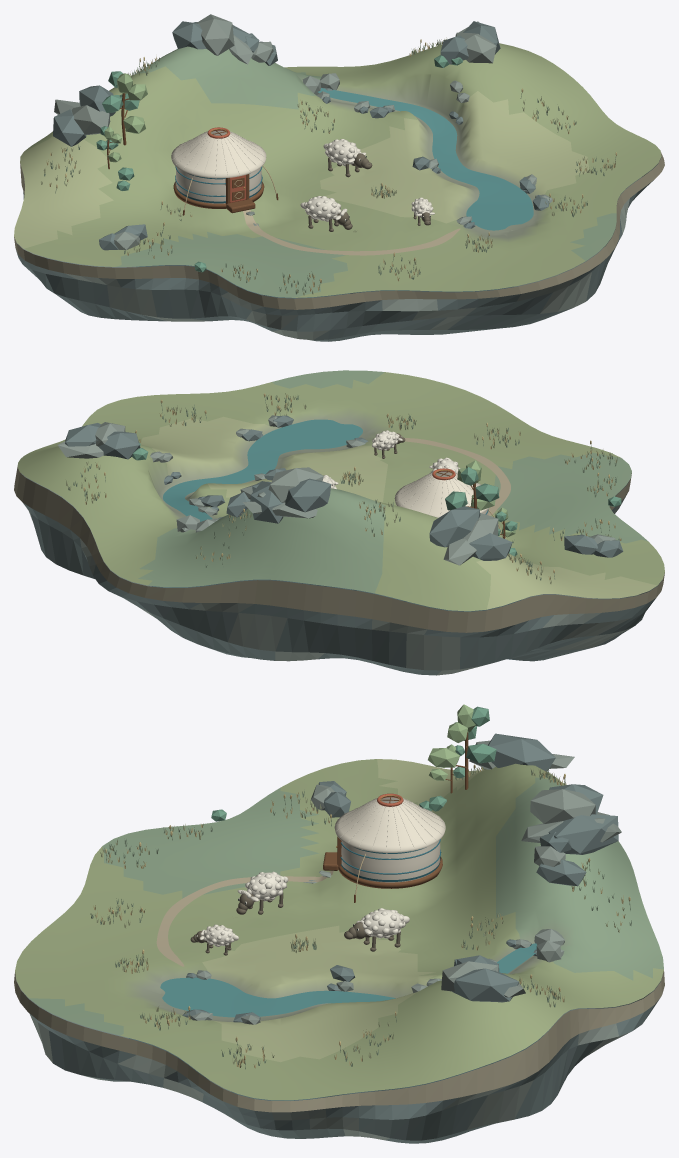
The model's file is steppe-v7.glb.
3 views of the same model, one above another, from view 1: azimuth 30°, elevation 25°; view 2: azimuth 150°, elevation 25°; view 3: azimuth 270°, elevation 25° (orthographic). The views are drawn at different scales.
Visible parts, largest first — view 1: Steppe_Steppe_meadow_terrain, Steppe_Steppe_turf_earth, Steppe_Steppe_weathered_rock, Steppe_water_surface, Steppe_Steppe_slate, ger_Ger_ivory_felt, Steppe_Steppe_larch_foliage, Steppe_Steppe_sage_grass, Steppe_Steppe_worn_path, Steppe_Steppe_seed_heads, Steppe_Steppe_larch_tips, Steppe_Steppe_sunlit_grass (+4 smaller); view 2: Steppe_Steppe_meadow_terrain, Steppe_Steppe_turf_earth, Steppe_Steppe_slate, Steppe_Steppe_weathered_rock, Steppe_water_surface, ger_Ger_ivory_felt, Steppe_Steppe_larch_foliage, Steppe_Steppe_seed_heads, Steppe_Steppe_sage_grass, Steppe_Steppe_sunlit_grass, Steppe_Steppe_worn_path, Steppe_Steppe_larch_tips; view 3: Steppe_Steppe_meadow_terrain, Steppe_Steppe_turf_earth, Steppe_Steppe_slate, ger_Ger_ivory_felt, Steppe_Steppe_weathered_rock, Steppe_water_surface, Steppe_Steppe_sage_grass, Steppe_Steppe_seed_heads, Steppe_Steppe_larch_foliage, Steppe_Steppe_worn_path, Steppe_Steppe_sunlit_grass, Steppe_Steppe_larch_tips (+5 smaller).
Part boxes in pixels (x1,y1,x2,y2): Steppe_Steppe_meadow_terrain: [14, 43, 661, 297]; Steppe_Steppe_turf_earth: [14, 152, 664, 341]; Steppe_Steppe_weathered_rock: [54, 14, 552, 249]; Steppe_water_surface: [318, 88, 533, 230]; Steppe_Steppe_slate: [53, 21, 549, 250]; ger_Ger_ivory_felt: [171, 130, 266, 203]; Steppe_Steppe_larch_foliage: [96, 55, 462, 272]; Steppe_Steppe_sage_grass: [44, 39, 616, 294]; Steppe_Steppe_worn_path: [243, 210, 460, 255]; Steppe_Steppe_seed_heads: [46, 39, 616, 291]; Steppe_Steppe_larch_tips: [104, 73, 147, 162]; Steppe_Steppe_sunlit_grass: [40, 37, 613, 295]; Steppe_Steppe_meadow_terrain: [17, 370, 664, 611]; Steppe_Steppe_turf_earth: [14, 467, 664, 675]; Steppe_Steppe_slate: [65, 415, 623, 560]; Steppe_Steppe_weathered_rock: [57, 415, 615, 565]; Steppe_water_surface: [163, 419, 362, 521]; ger_Ger_ivory_felt: [394, 471, 489, 517]; Steppe_Steppe_larch_foliage: [132, 442, 621, 556]; Steppe_Steppe_seed_heads: [83, 393, 621, 579]; Steppe_Steppe_sage_grass: [68, 395, 619, 580]; Steppe_Steppe_sunlit_grass: [66, 395, 617, 583]; Steppe_Steppe_worn_path: [404, 438, 510, 515]; Steppe_Steppe_larch_tips: [457, 460, 515, 537]; Steppe_Steppe_meadow_terrain: [15, 759, 663, 1100]; Steppe_Steppe_turf_earth: [14, 971, 664, 1143]; Steppe_Steppe_slate: [182, 733, 618, 1022]; ger_Ger_ivory_felt: [334, 797, 445, 882]; Steppe_Steppe_weathered_rock: [191, 740, 621, 1024]; Steppe_water_surface: [160, 943, 536, 1017]; Steppe_Steppe_sage_grass: [90, 768, 631, 1069]; Steppe_Steppe_seed_heads: [93, 764, 630, 1068]; Steppe_Steppe_larch_foliage: [211, 706, 496, 821]; Steppe_Steppe_worn_path: [156, 870, 333, 966]; Steppe_Steppe_sunlit_grass: [96, 767, 624, 1067]; Steppe_Steppe_larch_tips: [428, 704, 475, 780].
Bounding box in the file's own units: 12.17 × 4.47 × 9.97.
